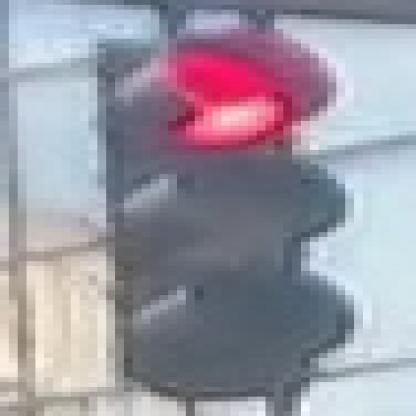Red Light: (100, 25, 344, 396)
